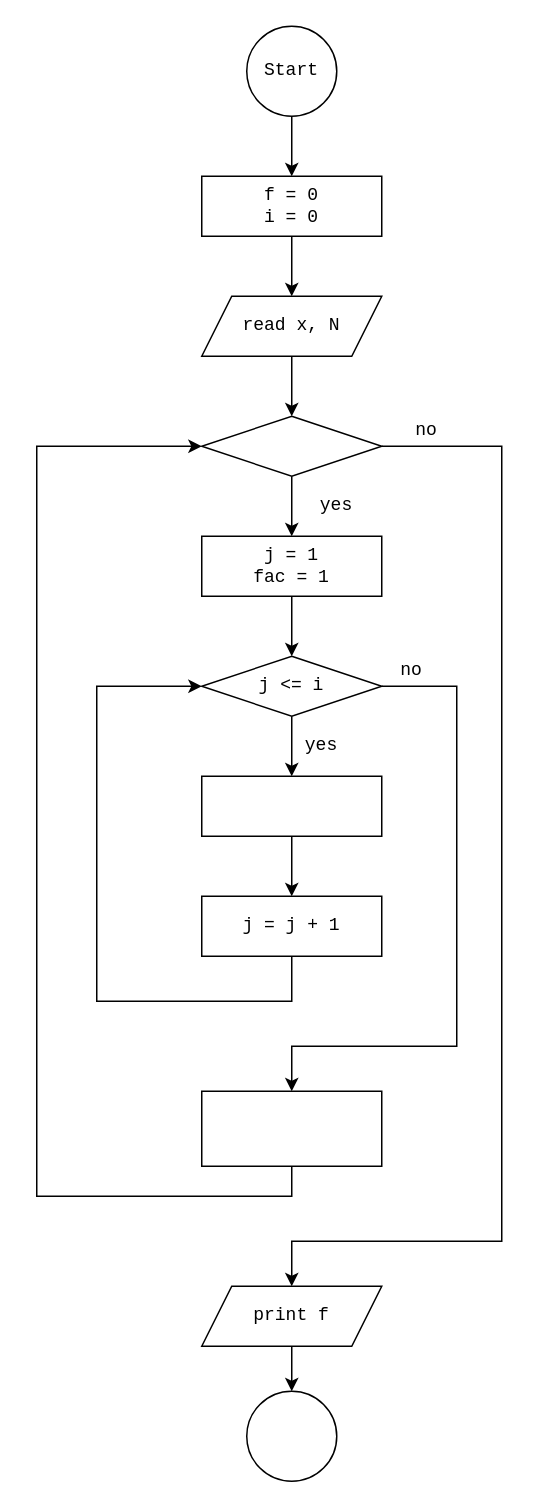
Image size: 540x1508. Some labels were removed from this diagram. Each missing label, with the box of its shape:
End: (245, 1390, 337, 1481)
fac = fac*j: (200, 775, 382, 836)
i < N: (200, 415, 382, 476)
i = i + 1 term = x**i/fac f = f + term: (200, 1090, 382, 1166)
